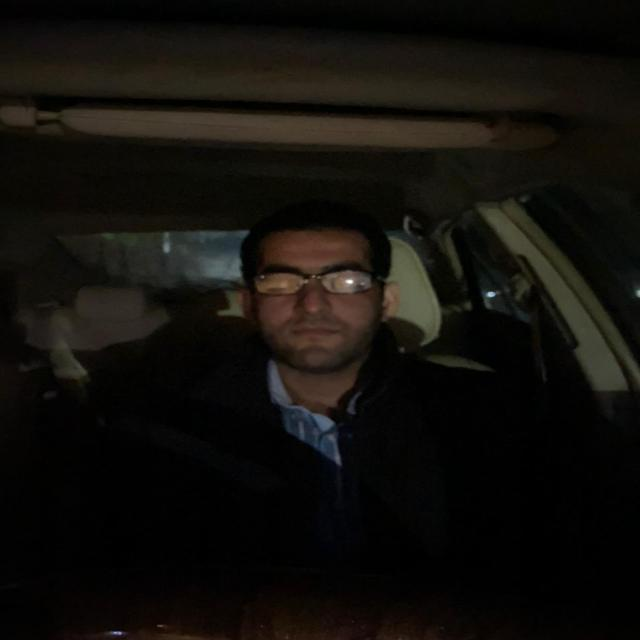drowsy: (232, 202, 402, 390)
